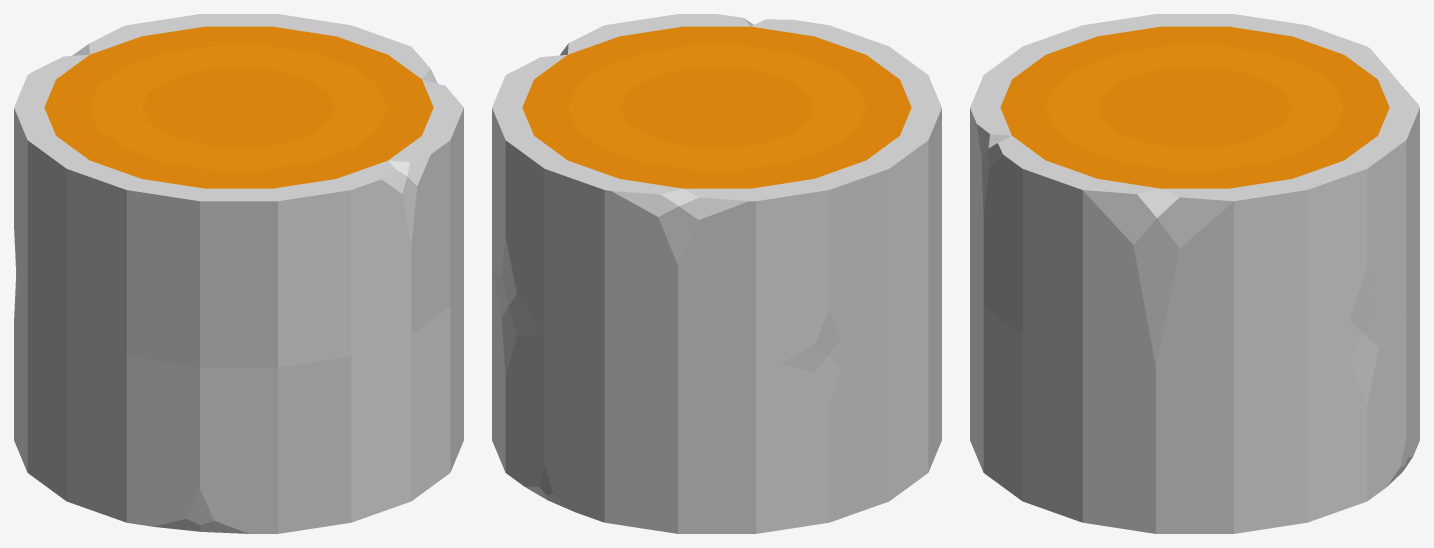
Rendered from Tree log_13.fbx.
3 views of the same model, side by side, from view 1: azimuth 30°, elevation 25°; view 2: azimuth 150°, elevation 25°; view 3: azimuth 270°, elevation 25° (orthographic).
Visible parts, largest first — view 1: Circle.199; view 2: Circle.199; view 3: Circle.199.
Boxes of the visible parts, x1,y1,x2,y2 form: Circle.199: [14, 14, 463, 533]; Circle.199: [492, 14, 941, 533]; Circle.199: [970, 14, 1419, 533].
Bounding box in the file's own units: 23.2 × 19.22 × 23.56.
